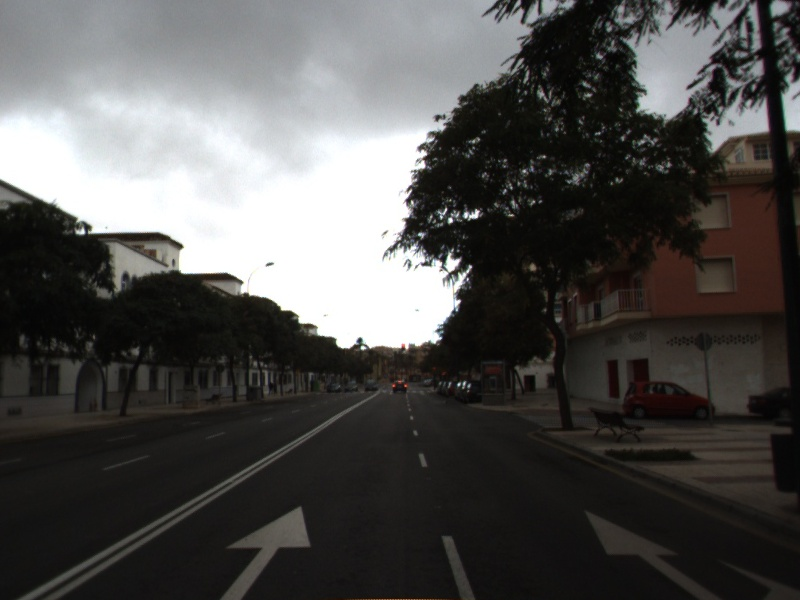STRAIGHT: (582, 507, 732, 600), (215, 503, 314, 600)
